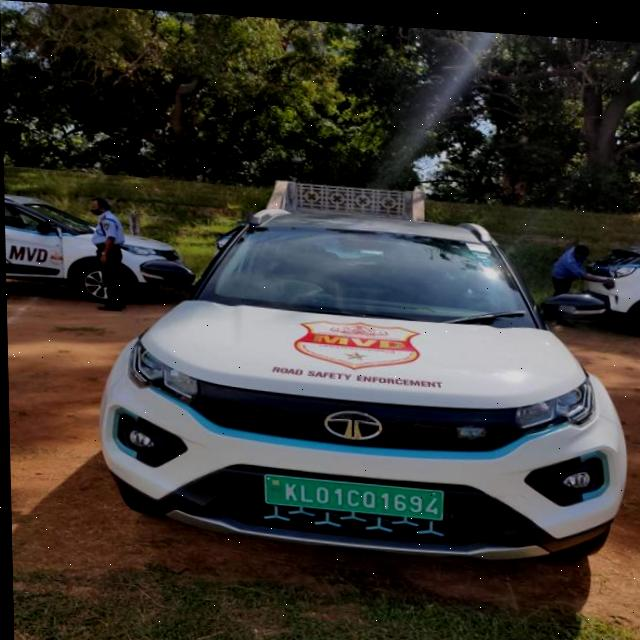plate: (258, 469, 442, 515)
